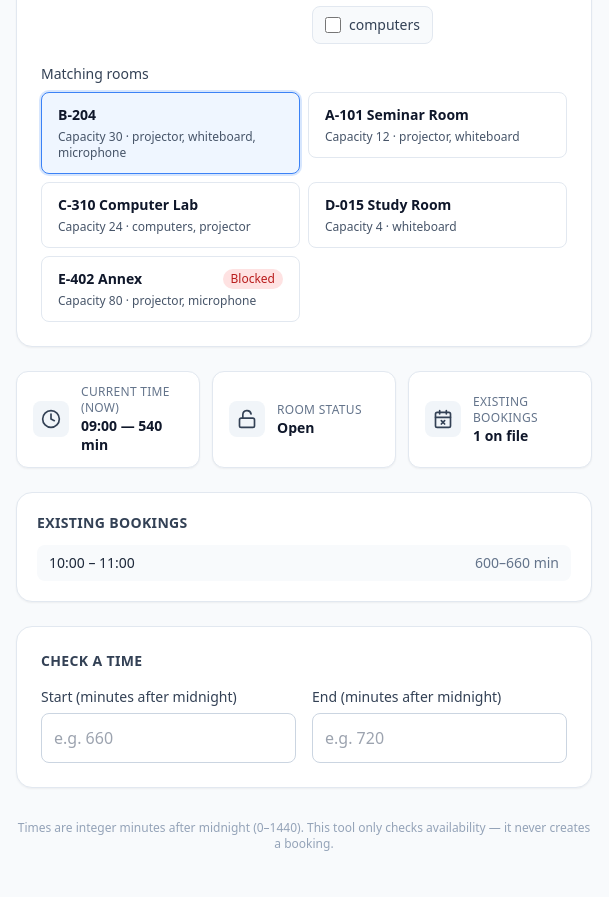
Test case: UI integration › E2: explanation disappears after switching room
The image size is (609, 897).
(page scrolled)
Type "700" into the number field labelled "Start (minutes after midnight)".
click(168, 738); type("700")  # box 41,712 -> 296,762
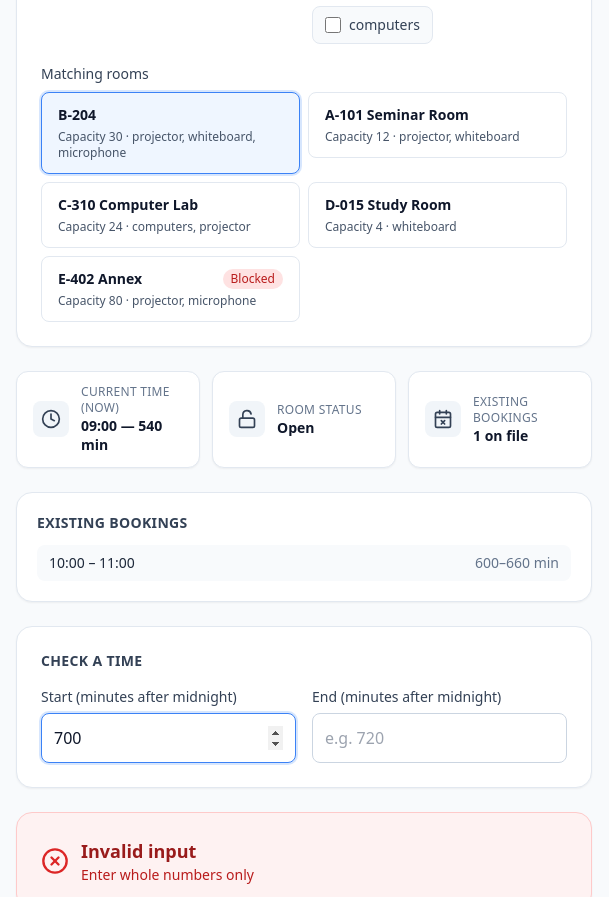
Type "760" into the number field labelled "End (minutes after midnight)".
click(440, 738); type("760")  # box 312,712 -> 567,762
(page scrolled)
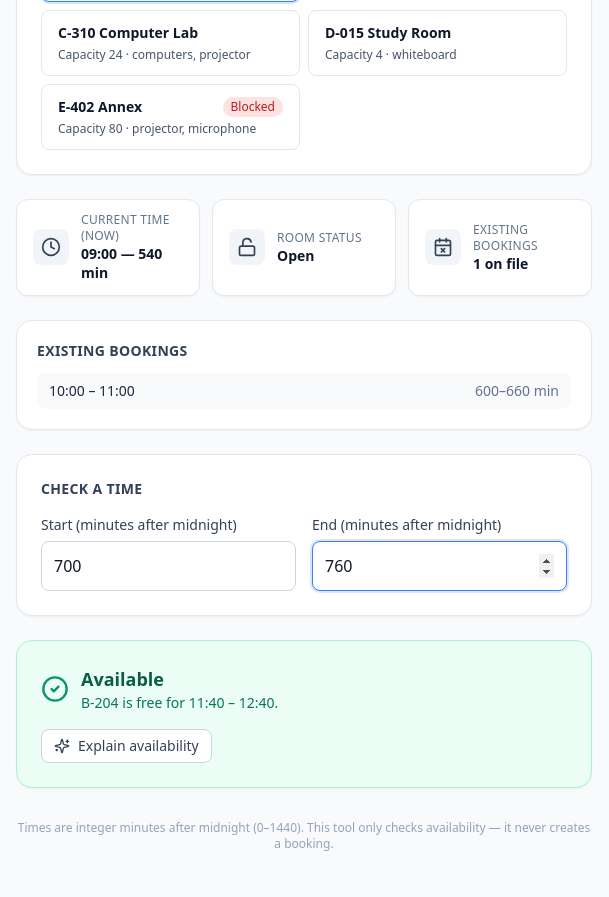
Click the button "Explain availability".
click(126, 746)  # box 41,728 -> 212,762
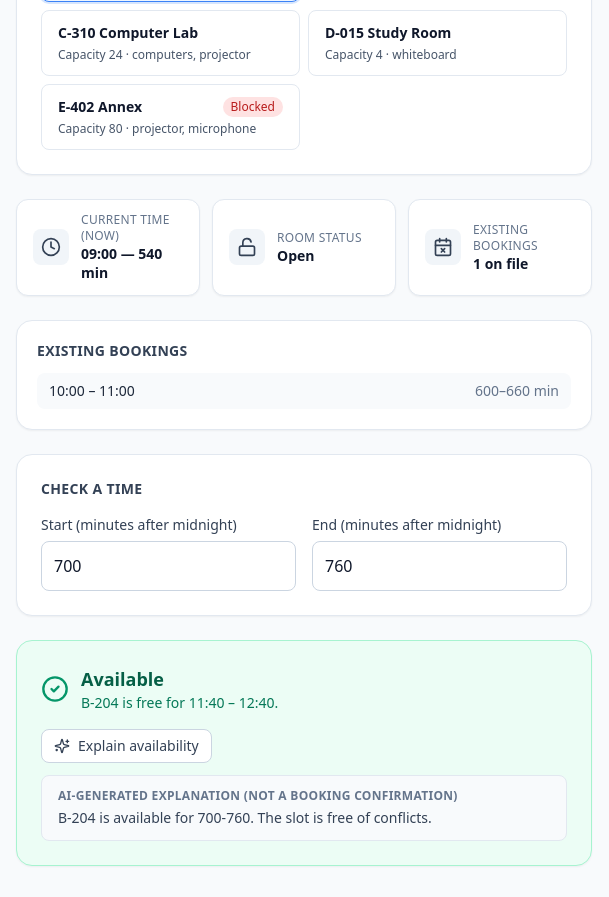
Check: the element with test id "explanation" is shown, box 41,774 -> 567,840
Click the button "D-015 Study Room Capacity 4 · whiteboard".
click(438, 43)  # box 308,10 -> 567,76
(page scrolled)
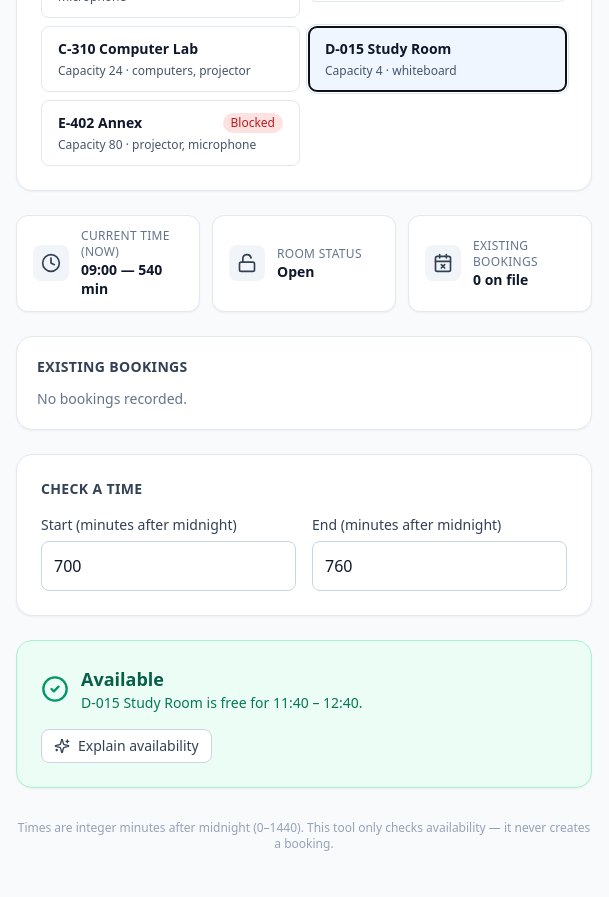
Check: the element with test id "explanation" is gone
